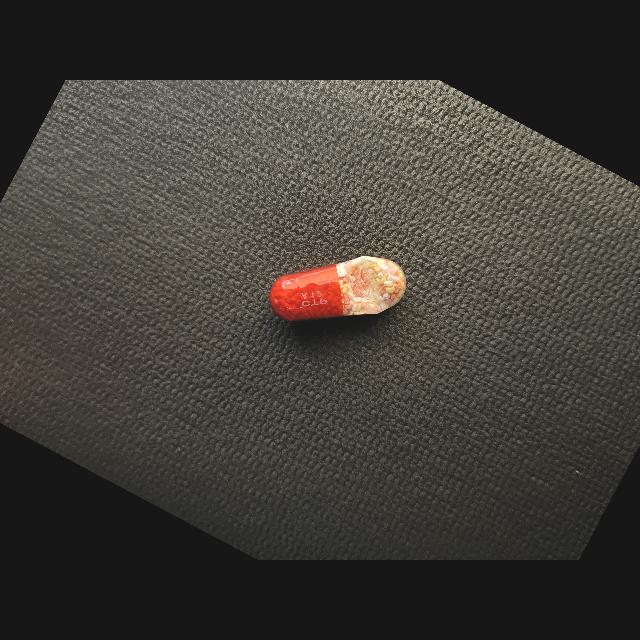Defective Capsule: (269, 256, 406, 321)
